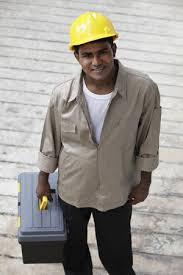Person_wearing_helmet: (64, 11, 120, 64)
